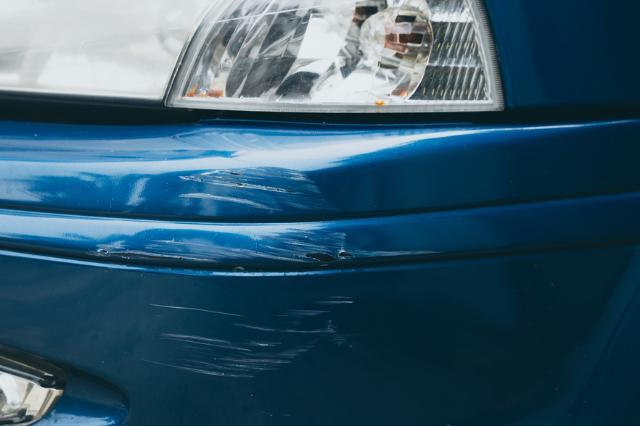Bumper: (50, 118, 422, 394)
